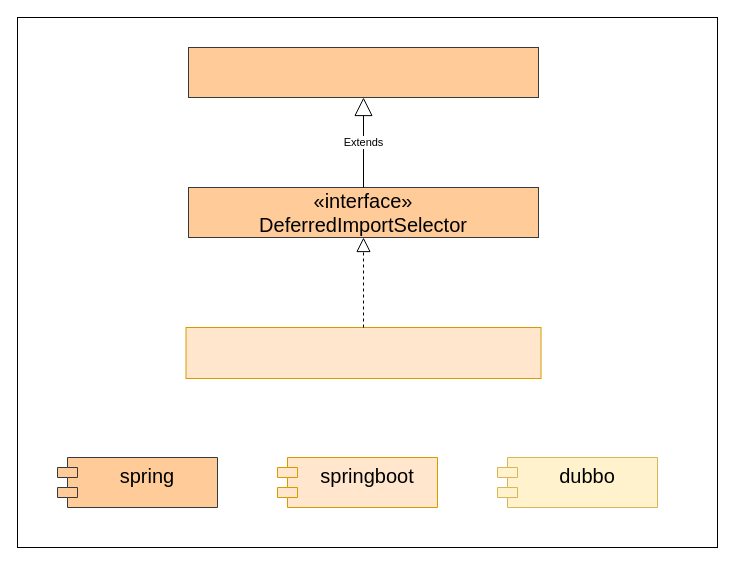
This 735x565 diagram has some shape labels left out. The centre of each missing label's shape, as x and y in pixels:
"AutoConfigurationImportSelector" goes at (363,352).
"«interface» ImportSelector" goes at (363,72).
